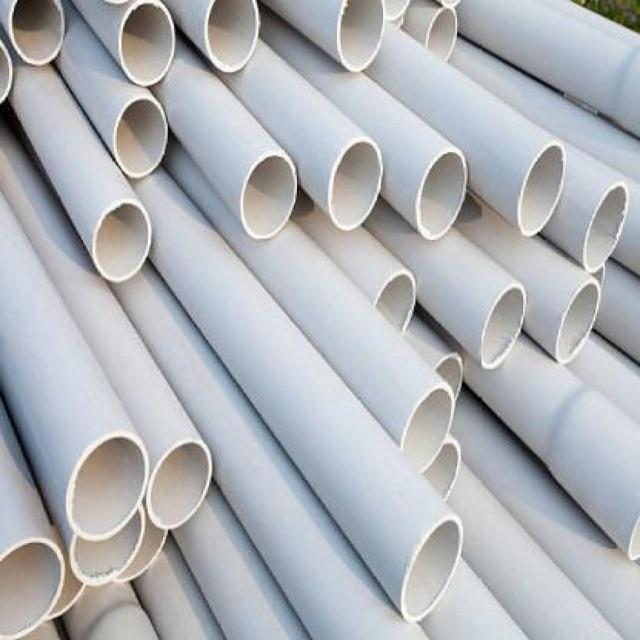pipe: (67, 431, 150, 541), (399, 514, 464, 624), (0, 536, 66, 638), (69, 501, 146, 586), (146, 439, 212, 530), (328, 138, 384, 231), (239, 152, 298, 240), (400, 383, 457, 474), (92, 198, 152, 283), (118, 0, 175, 86), (517, 141, 568, 237), (416, 148, 468, 241), (113, 96, 169, 178), (582, 182, 629, 273), (479, 283, 527, 370), (204, 0, 260, 74), (556, 278, 601, 363), (8, 0, 65, 66), (337, 0, 385, 72), (373, 268, 416, 336), (424, 434, 466, 501), (424, 7, 458, 61)
